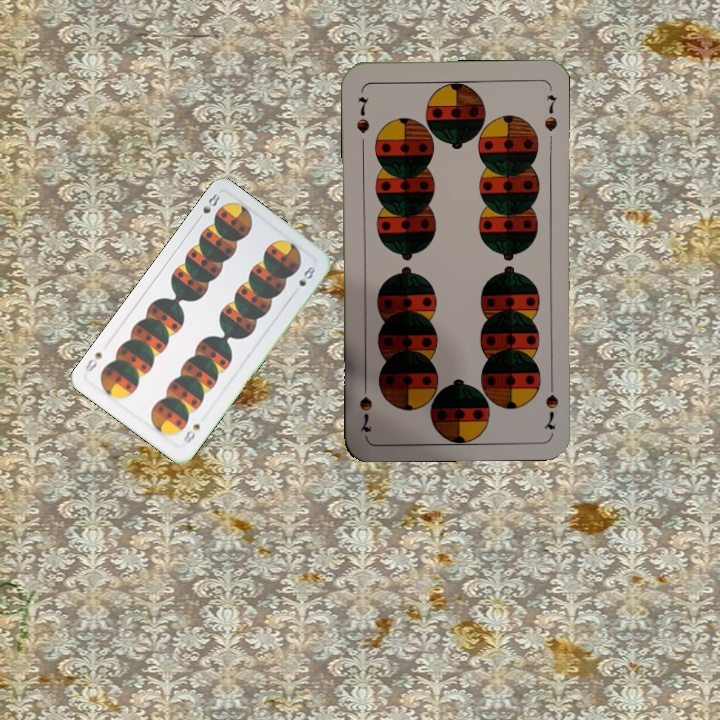S7: (540, 375, 561, 433), (352, 92, 372, 135)
S8: (192, 189, 223, 225), (179, 419, 203, 447)
